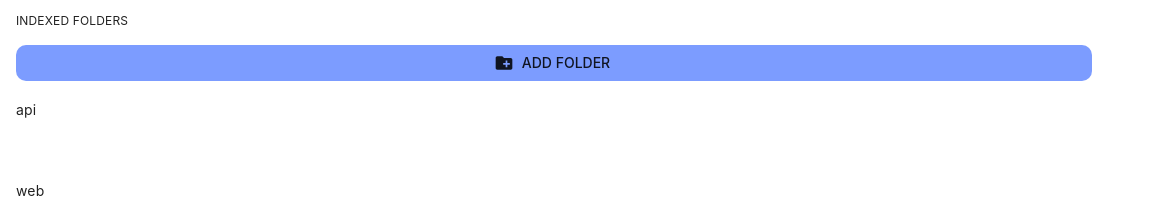
Test case: Sidebar › highlights only the folder the search is scoped to
The width and height of the screenshot is (1152, 213).
Click the text "api": x=26, y=110 [16,101,36,118]
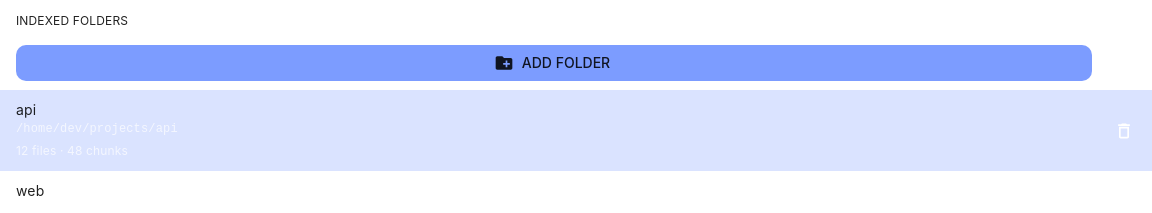
Expected: the button "api /home/dev/projects/api 12 files · 48 chunks" has class "Mui-selected", [0,90,1151,171]
